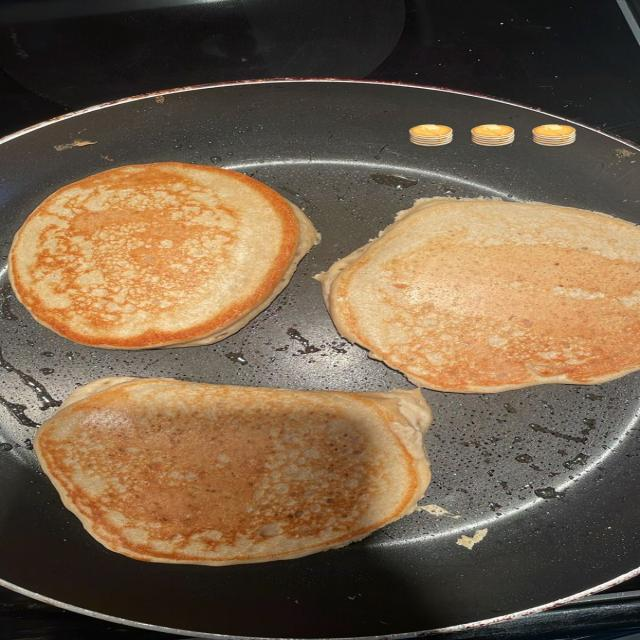pancake: (36, 378, 431, 564), (319, 198, 639, 392), (10, 163, 317, 349)
